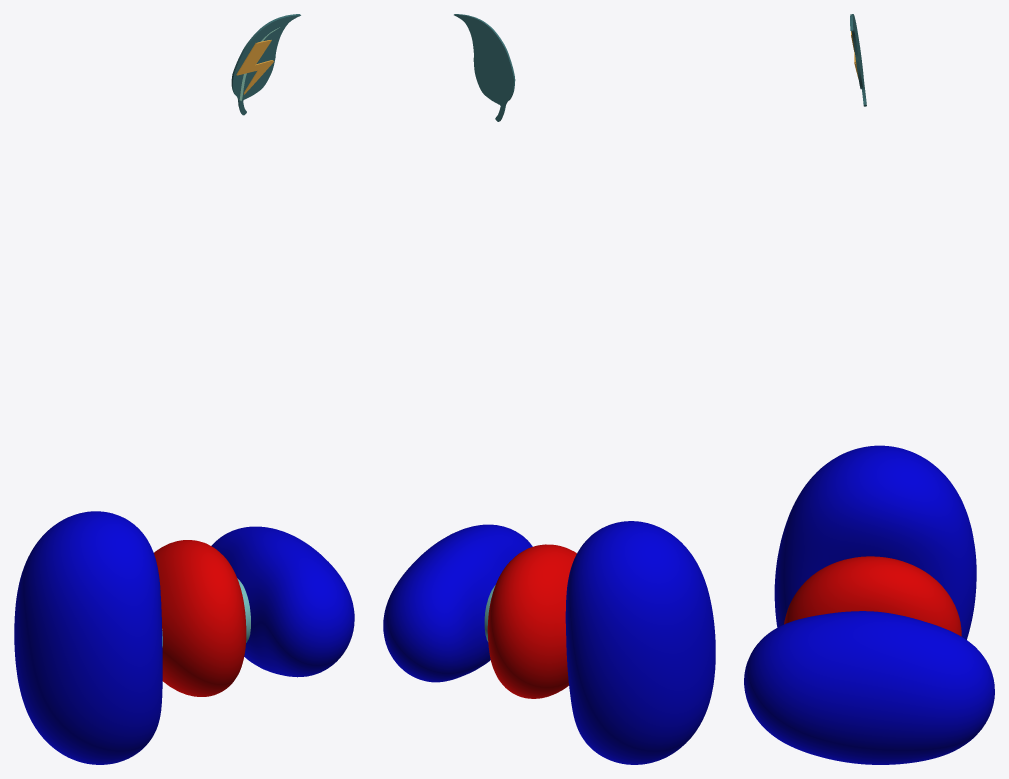
File: c2h4_sim_en.glb
The picture shows the model from 3 angles, left to right: view 1: azimuth 30°, elevation 25°; view 2: azimuth 150°, elevation 25°; view 3: azimuth 270°, elevation 25°; orthographic projection. The views are drawn at different scales.
Parts seen in each view (by area): view 1: c2h4_sim_en, path182, path186; view 2: c2h4_sim_en, path182; view 3: c2h4_sim_en, path182.
Part boxes in pixels (x1,y1,x2,y2): c2h4_sim_en: [14, 511, 354, 764]; path182: [231, 14, 300, 115]; path186: [236, 40, 273, 94]; c2h4_sim_en: [383, 521, 715, 764]; path182: [454, 14, 515, 121]; c2h4_sim_en: [744, 445, 994, 764]; path182: [850, 14, 866, 106].
Size of the model in its own units: 2.73 by 6.15 by 1.75.
